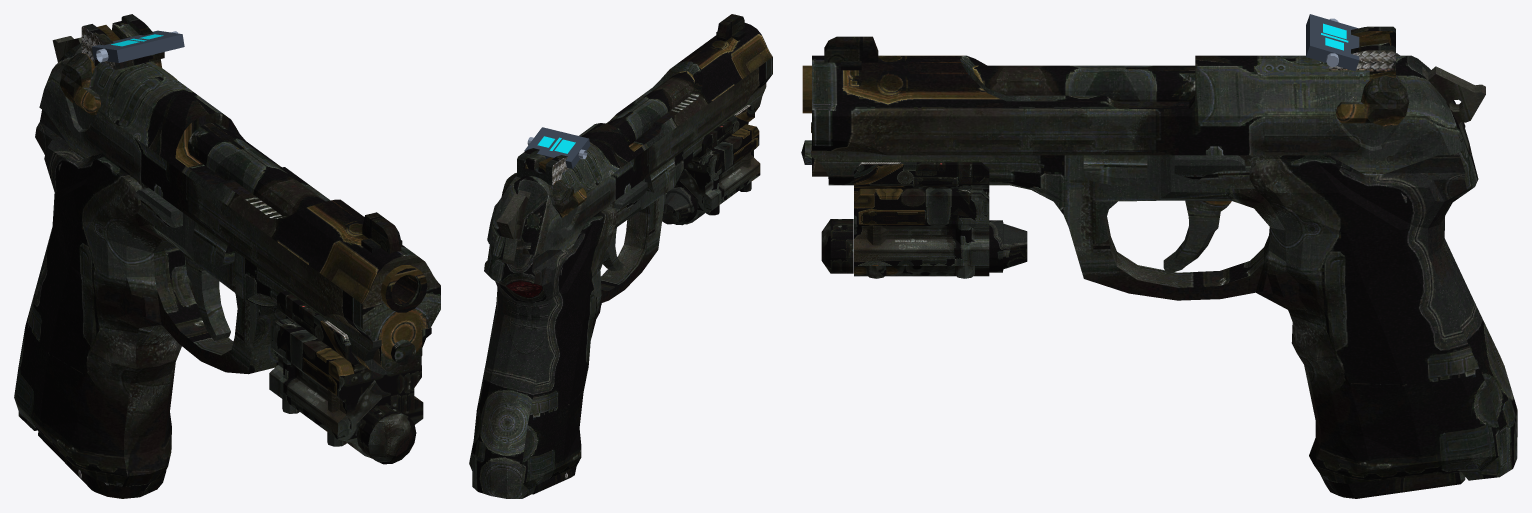
File: centurion_diegetic_v2.obj
3 renders of one model, left to right at view 1: azimuth 30°, elevation 25°; view 2: azimuth 150°, elevation 25°; view 3: azimuth 270°, elevation 25°, orthographic. The views are drawn at different scales.
Size of the model in its own units: 4.19 by 17.46 by 24.78.
5 materials, 1 textured.
